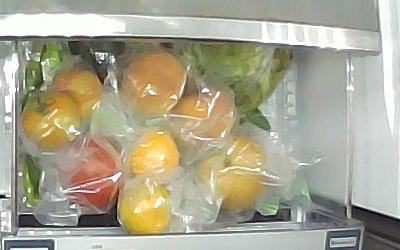peach_vinyl: (120, 51, 187, 119), (169, 86, 233, 137)
pear_vinyl: (194, 138, 264, 210)
tangerine_vinyl: (117, 183, 171, 236), (130, 130, 181, 179)
tomato_vinyl: (66, 136, 116, 209), (21, 92, 81, 152), (52, 68, 103, 117)
